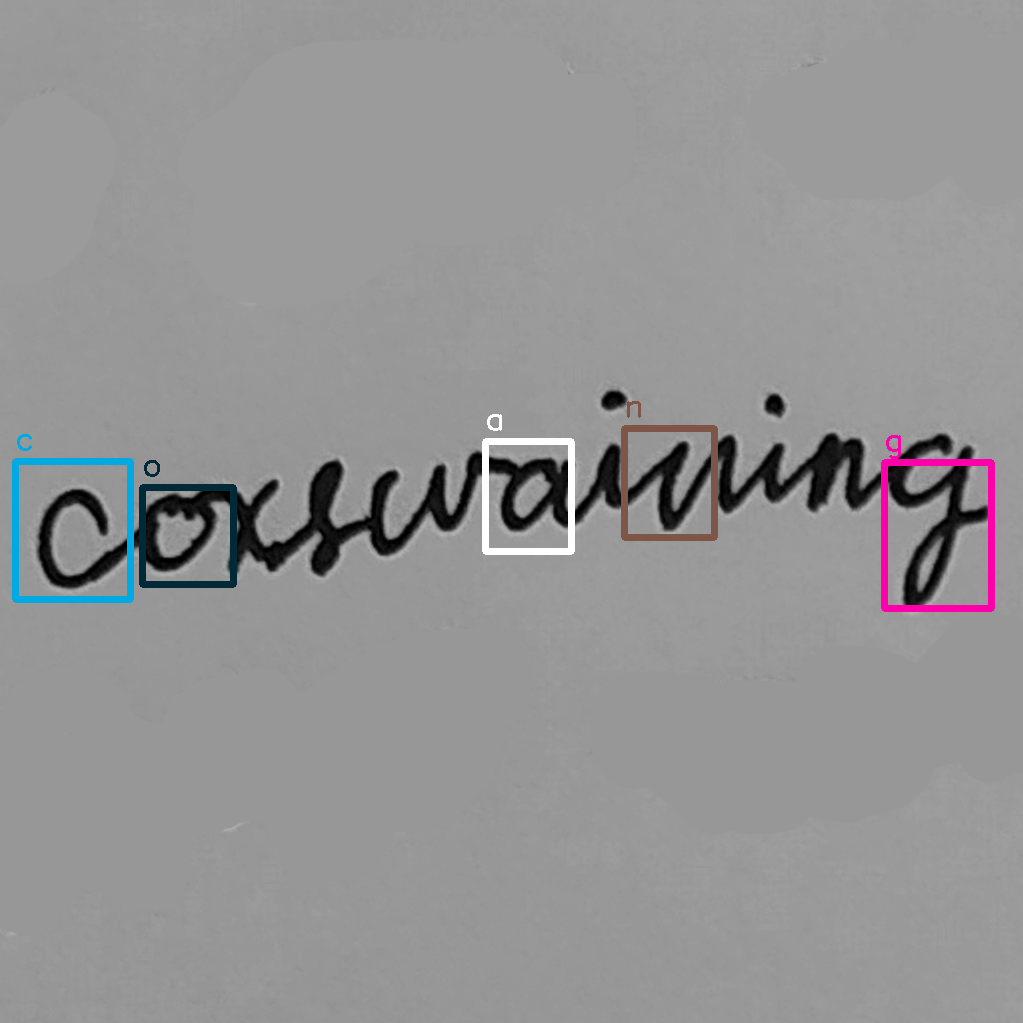a: (495, 446, 581, 539)
c: (32, 483, 114, 595)
g: (883, 426, 977, 617)
i: (587, 384, 637, 517), (752, 388, 794, 505)
n: (648, 431, 744, 534), (799, 427, 869, 519)
o: (132, 489, 220, 576)
s: (297, 453, 352, 583)
w: (362, 450, 490, 561)
x: (215, 472, 290, 578)
